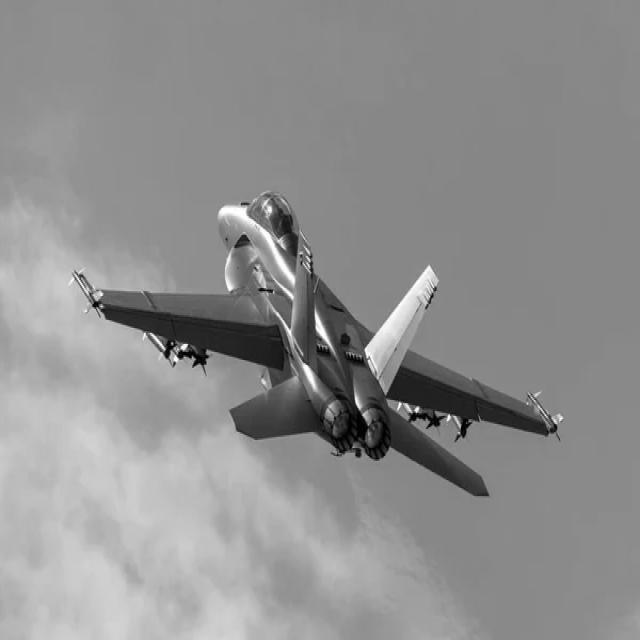Aircraft: (66, 143, 576, 530)
